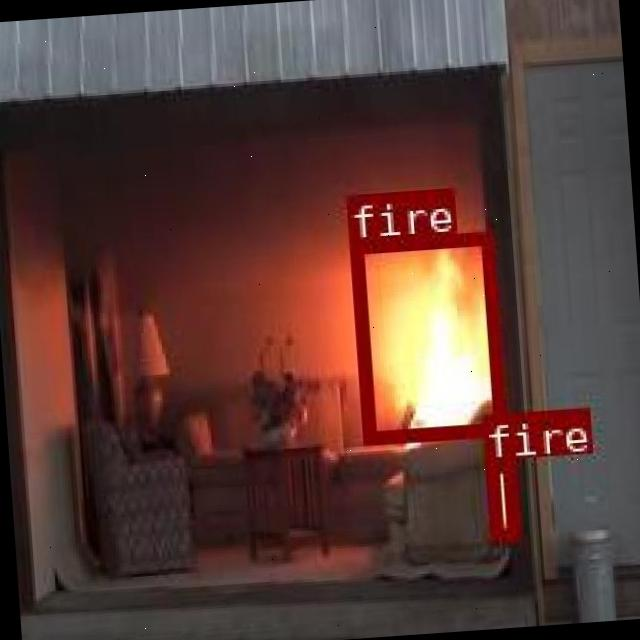fire: (346, 228, 504, 444), (483, 456, 519, 540)
